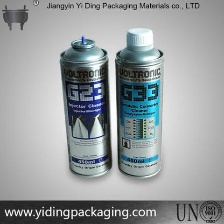aerosol_cans: (56, 33, 116, 181), (112, 26, 166, 182)
